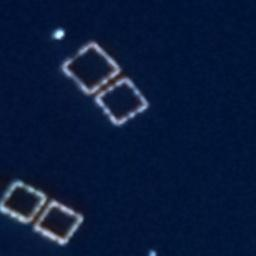square_solid: (56, 38, 124, 98), (91, 74, 152, 129), (29, 195, 89, 250), (1, 175, 51, 229)
